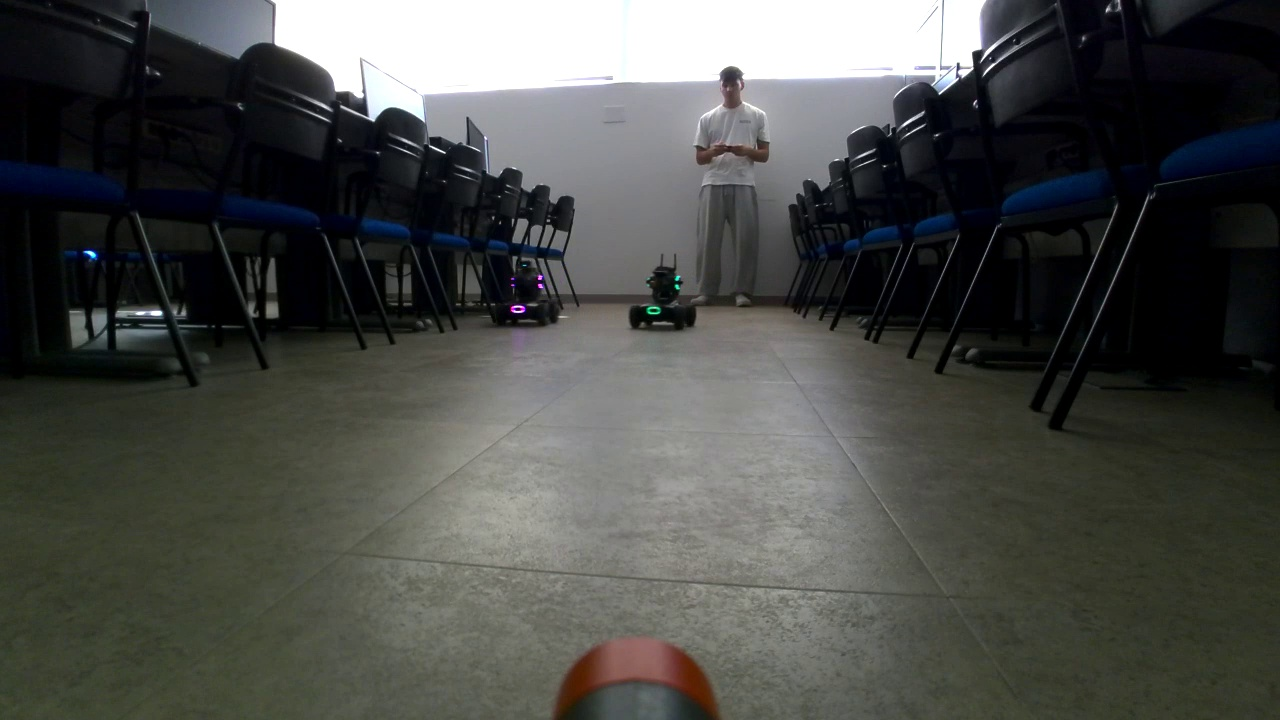robot: (627, 252, 699, 332), (489, 258, 560, 327)
